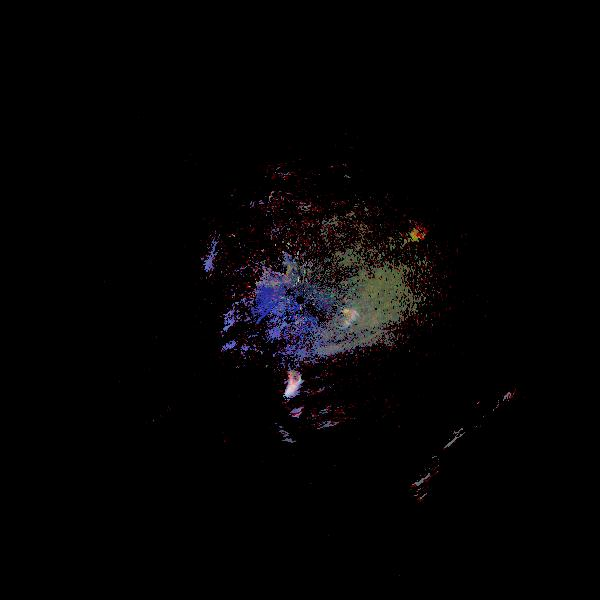roost: (274, 357, 319, 402), (339, 303, 360, 324)
